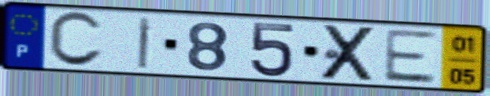5: (247, 20, 298, 79)
8: (186, 20, 232, 72)
C: (46, 10, 106, 70)
E: (381, 27, 439, 85)
I: (135, 15, 154, 71)
X: (317, 23, 380, 83)
